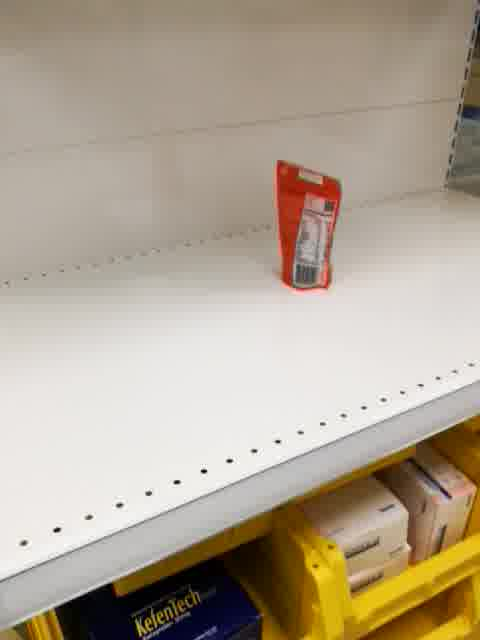whitechia: (272, 156, 345, 294)
